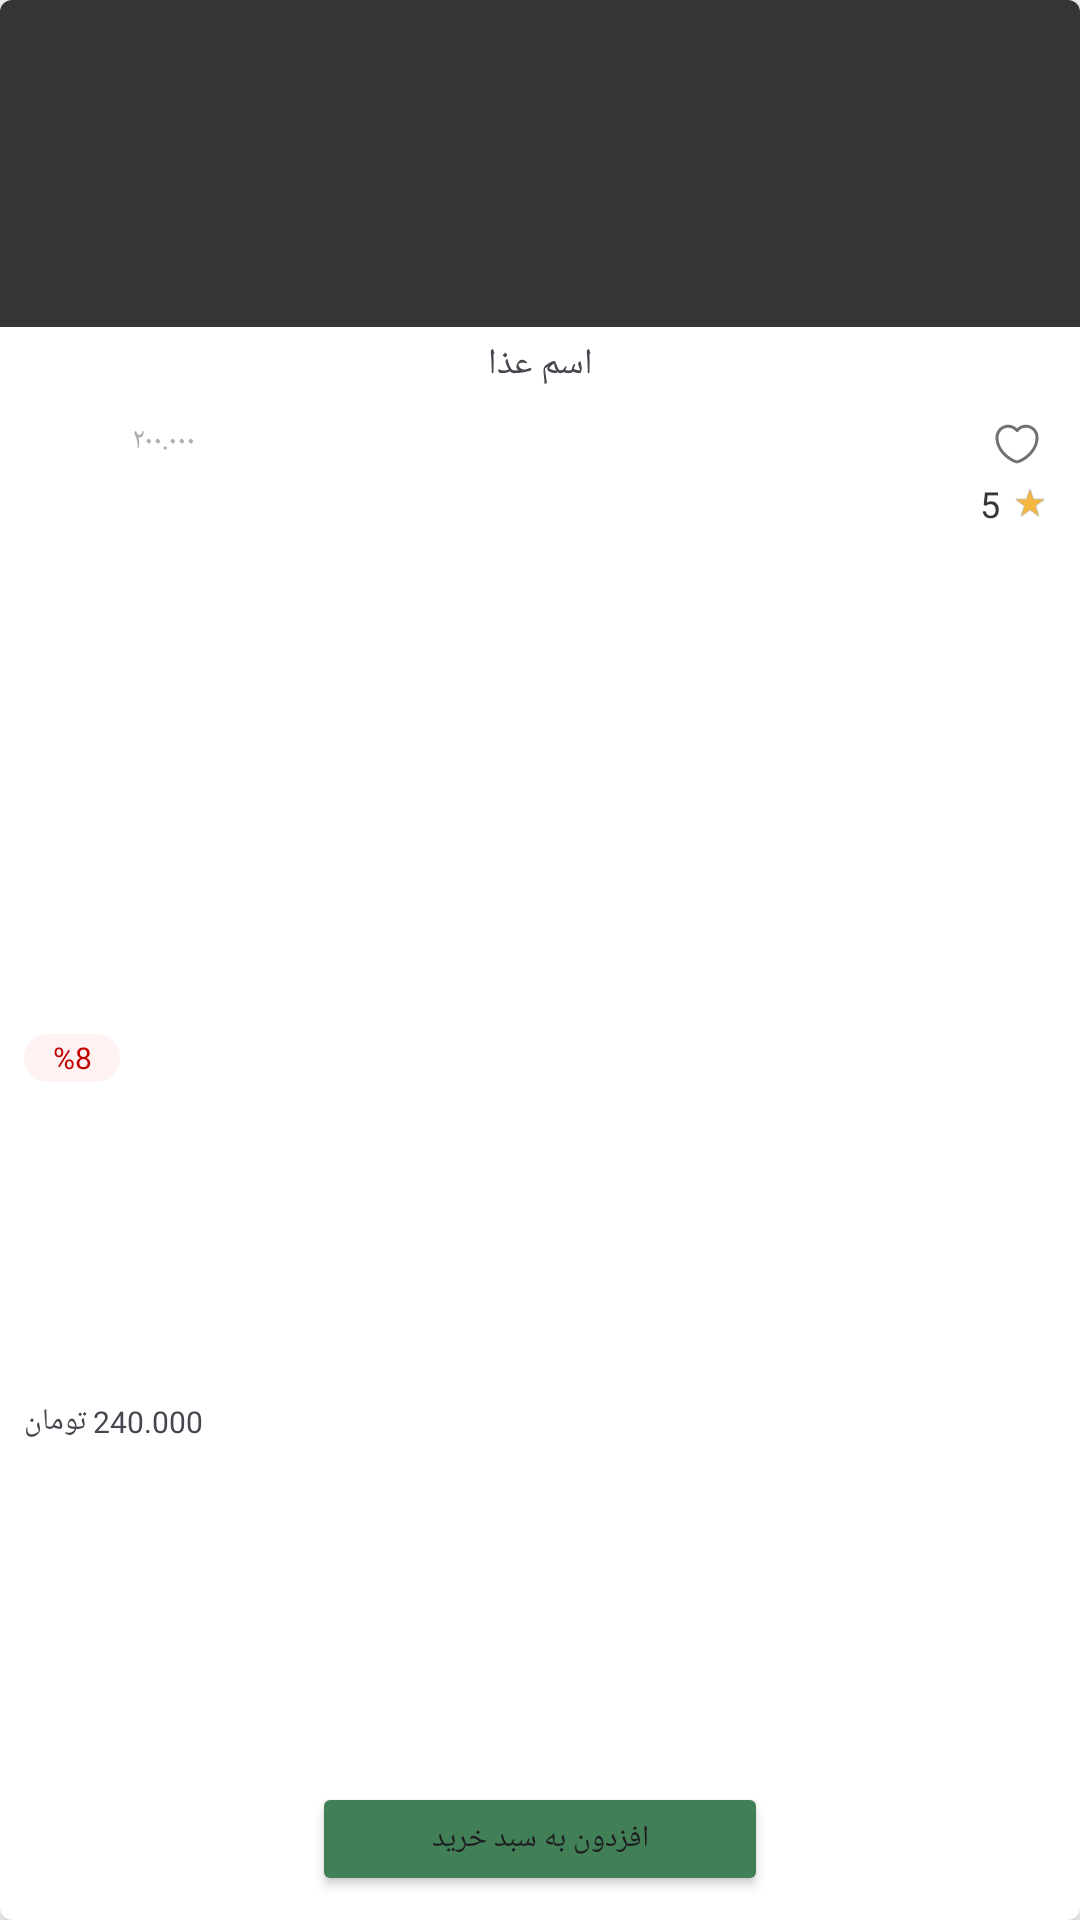

Icons on this 1080px x 1920px Android screen, each with its box as (x1, y1, x2, y2):
click this to add this food into your favorite section: (995, 424, 1039, 464)
star img: (1016, 489, 1044, 517)
